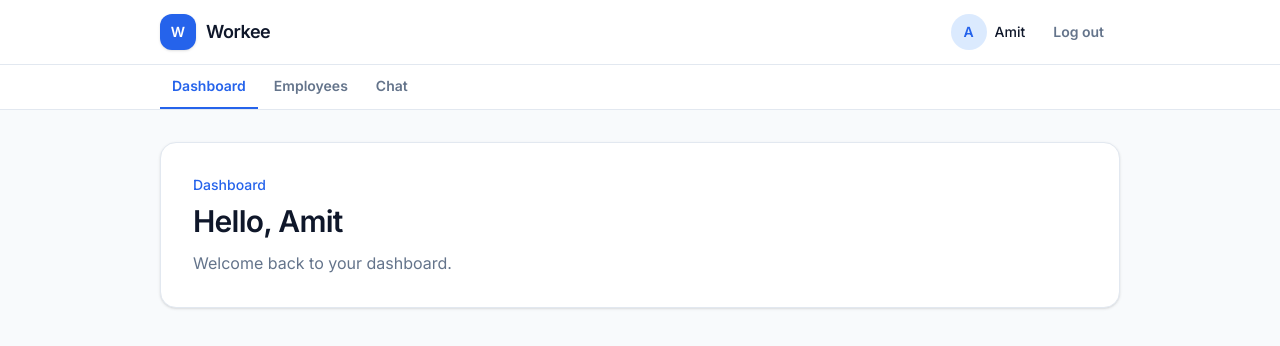
Test: Dashboard page › opens the employees screen from the Employees tab
What coordinates should you click on to do the following:
click the link "Employees"
I would click on:
 (311, 86)
Its box is 274,77 -> 348,94.
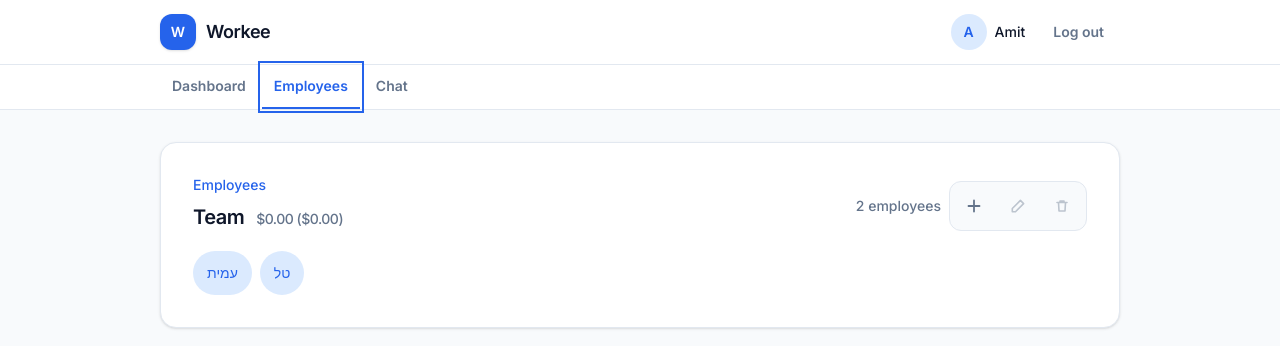
Check: the element with test id "employees-page" is shown, box 160,142 -> 1120,328
